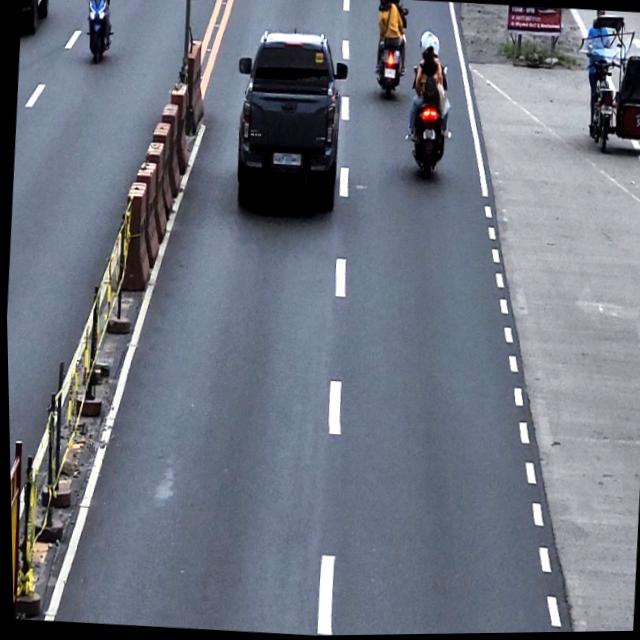Car: (227, 25, 352, 214)
License-Plate: (270, 150, 301, 168), (421, 128, 436, 143), (382, 68, 395, 80), (599, 105, 612, 117)
Motorcycle: (401, 63, 455, 182), (371, 7, 410, 98), (77, 0, 116, 65)
Tricycle: (581, 13, 640, 159)
